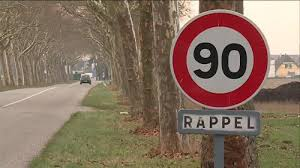Speed_limit_90km: (169, 9, 271, 110)
